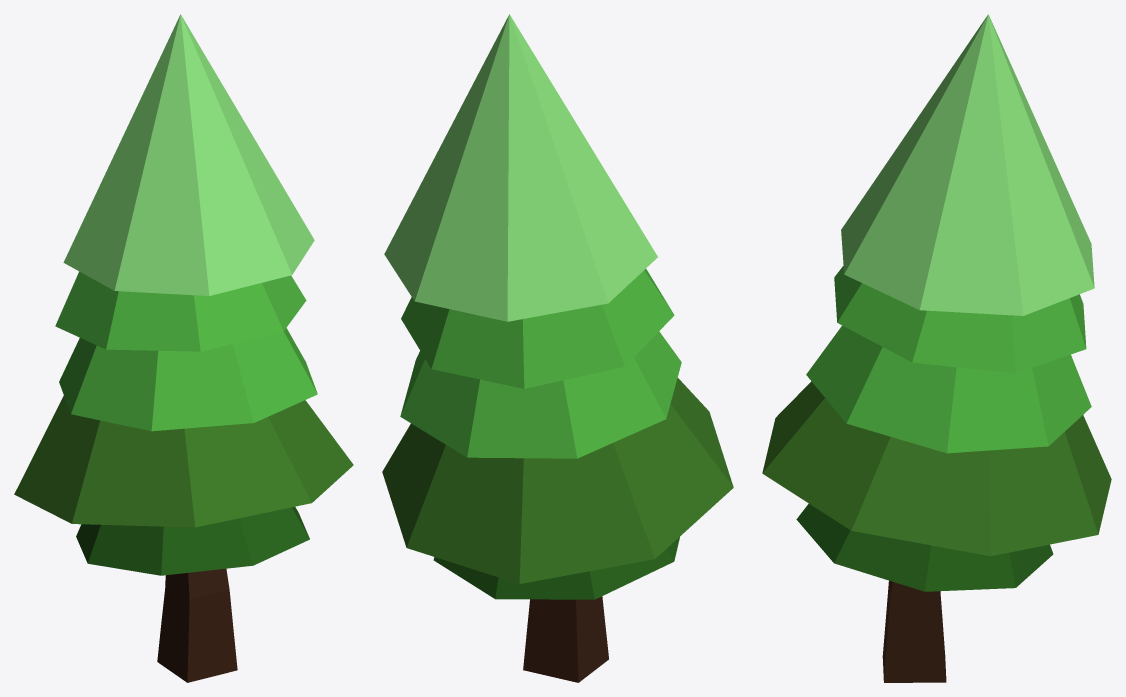
The model's file is tree321.gltf.
3 views of the same model, side by side, from view 1: azimuth 30°, elevation 25°; view 2: azimuth 150°, elevation 25°; view 3: azimuth 270°, elevation 25° (orthographic). The views are drawn at different scales.
Visible parts, largest first — view 1: Plane; view 2: Plane; view 3: Plane.
Boxes of the visible parts, x1,y1,x2,y2 form: Plane: (14,14,353,682); Plane: (382,14,733,682); Plane: (762,14,1111,682).
Bounding box in the file's own units: 1.11 × 2.41 × 1.15.
